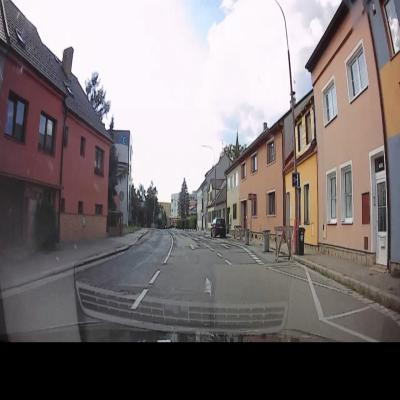clear-road: (78, 231, 291, 302)
